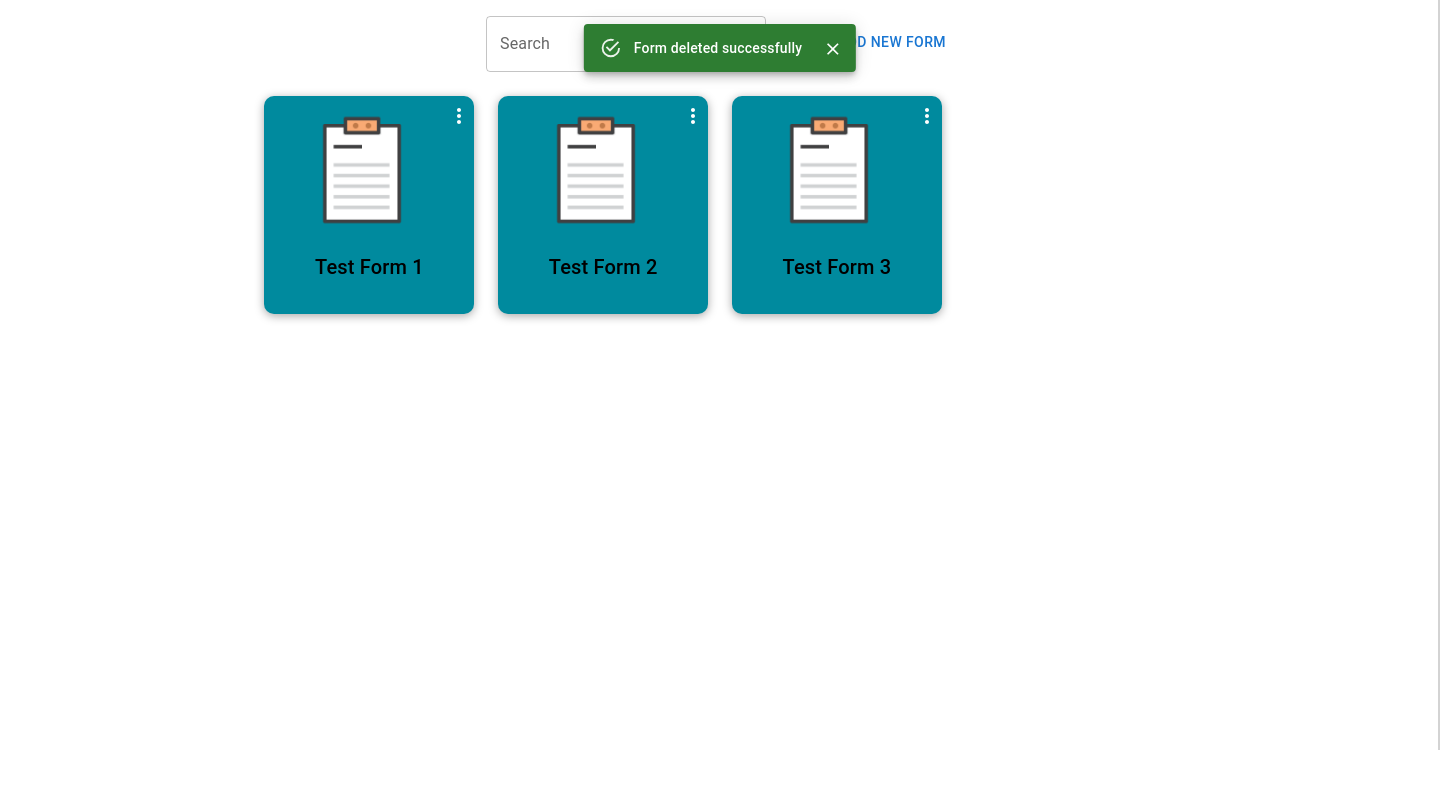
it: Formslist component › after clicking 'delete' menu option, a confirmation dialog box pops up and upon clicking cancel button it closes
Click the button named "more1": (459, 116) [439, 96, 479, 136]
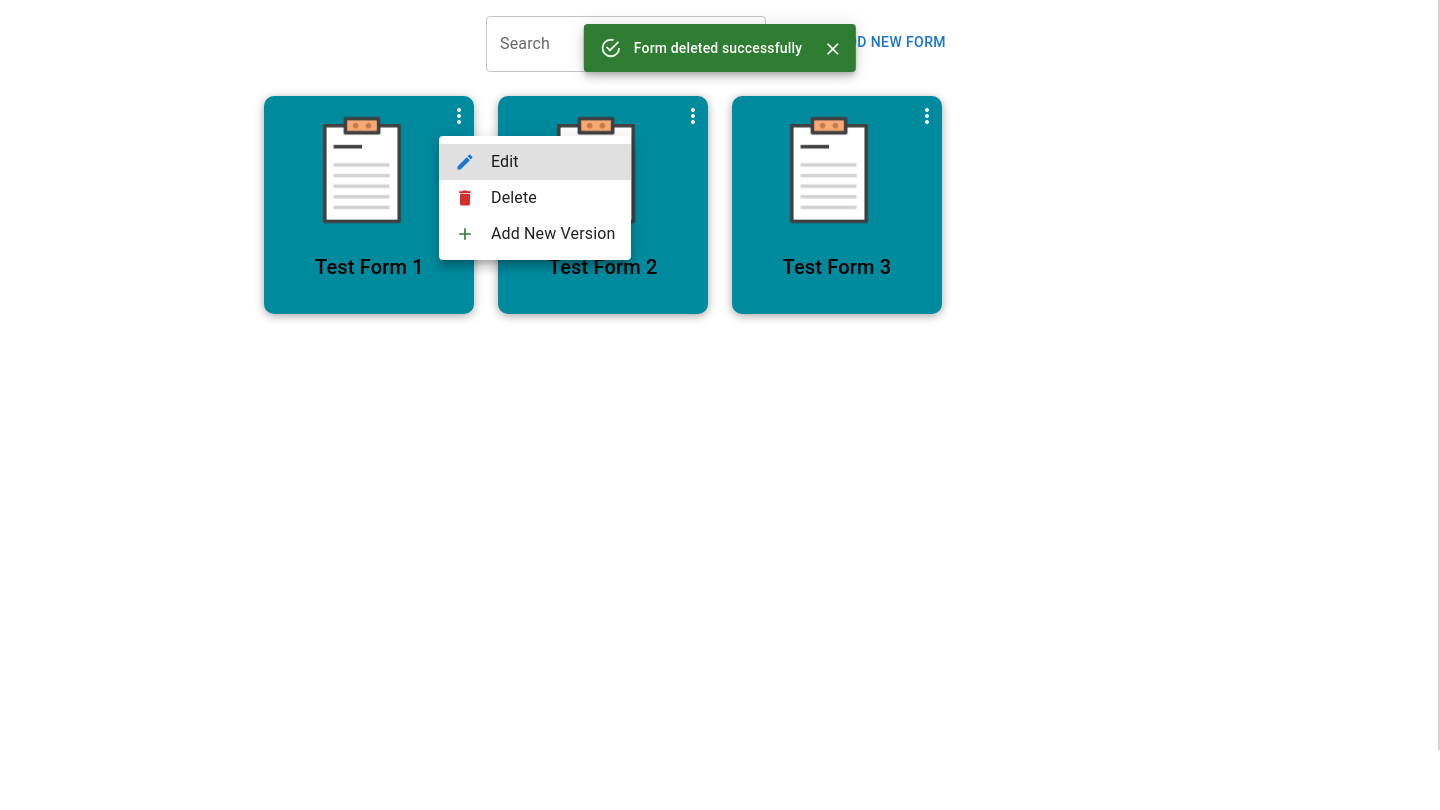
Click the menu item with test id "Delete": (496, 198) [455, 188, 537, 208]
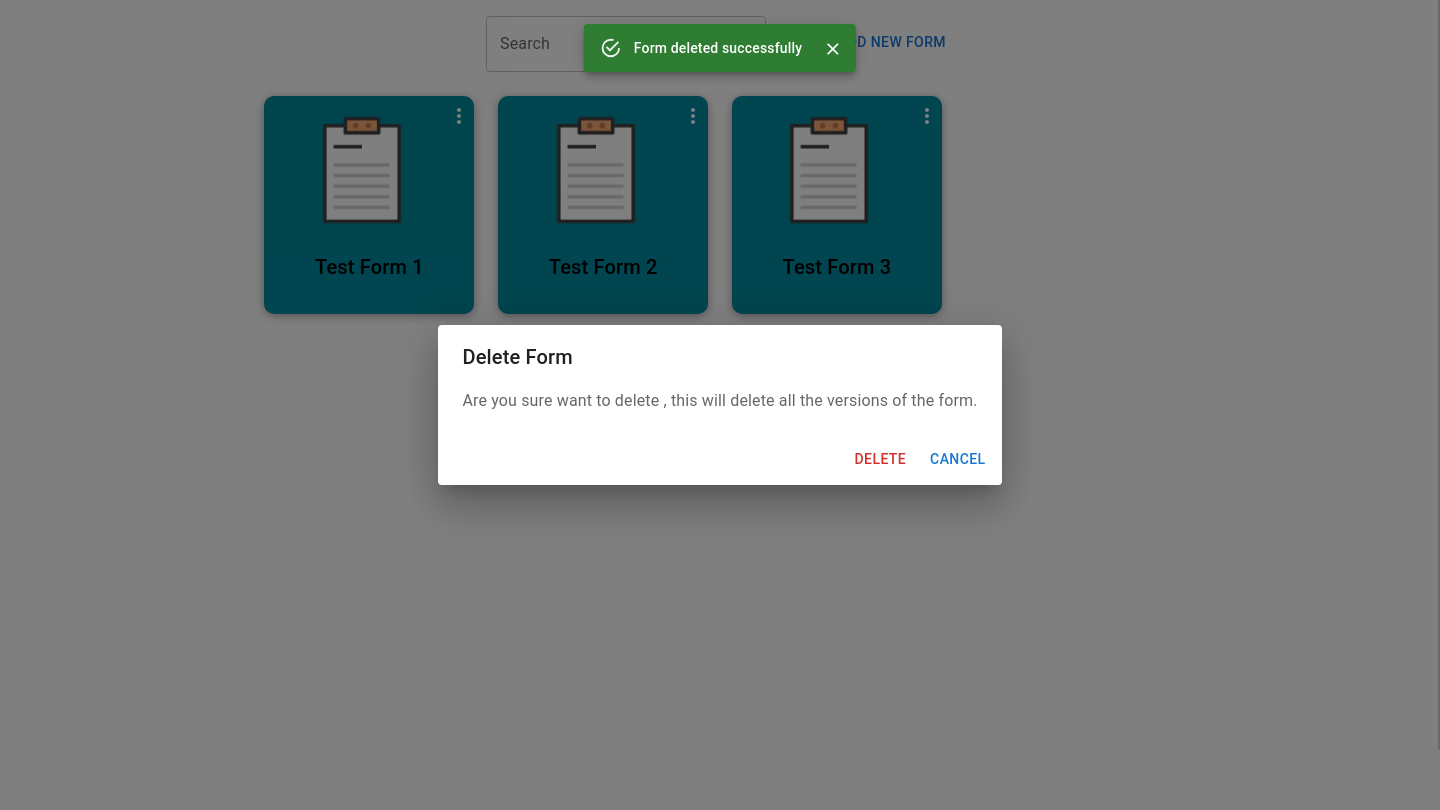
Expected: the heading "Delete Form" is shown, [462, 345, 573, 369]
Click the button "Cancel": (958, 459) [922, 441, 994, 477]
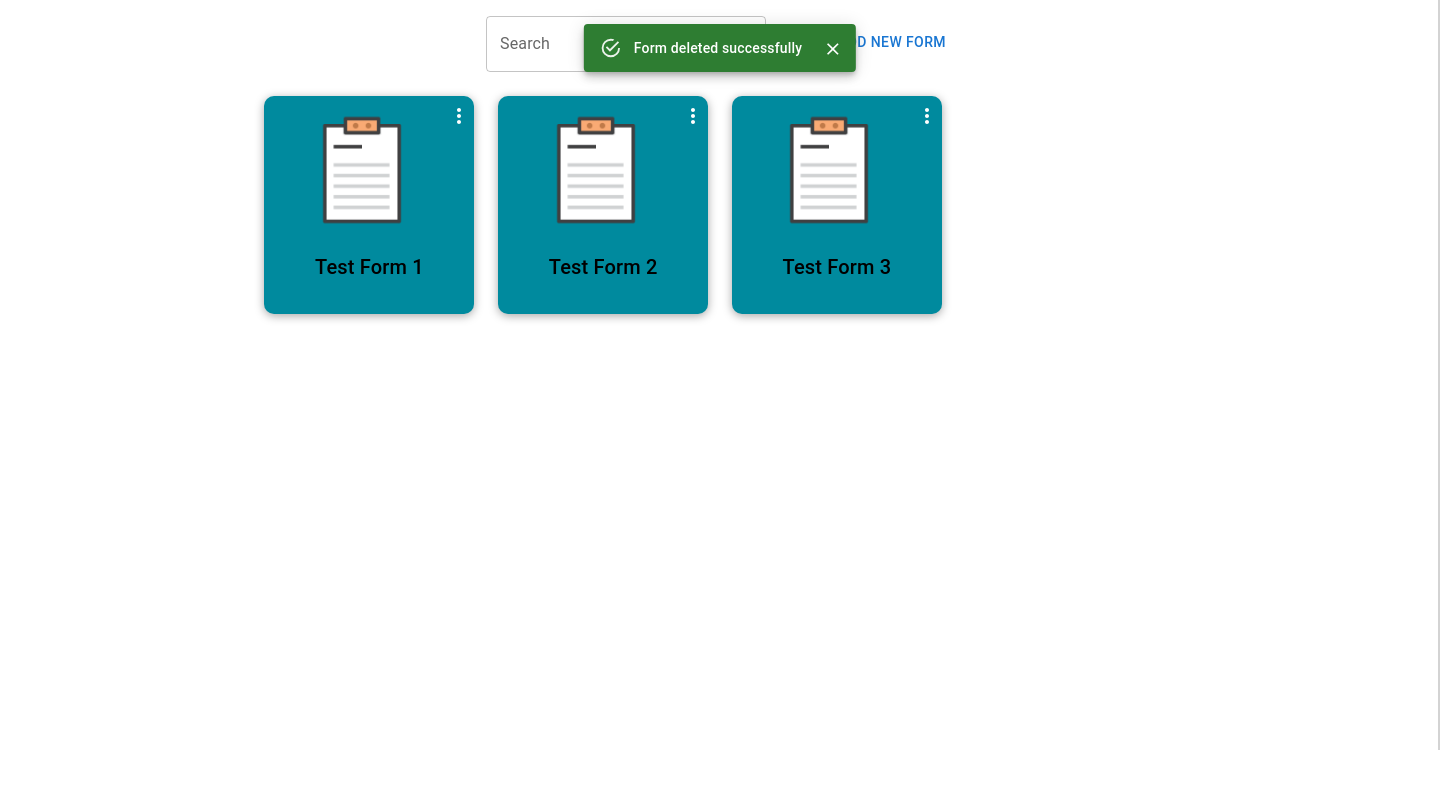
Expected: the element with test id "form1" is shown, [264, 96, 439, 235]
Expected: the heading "Delete Form" is gone
